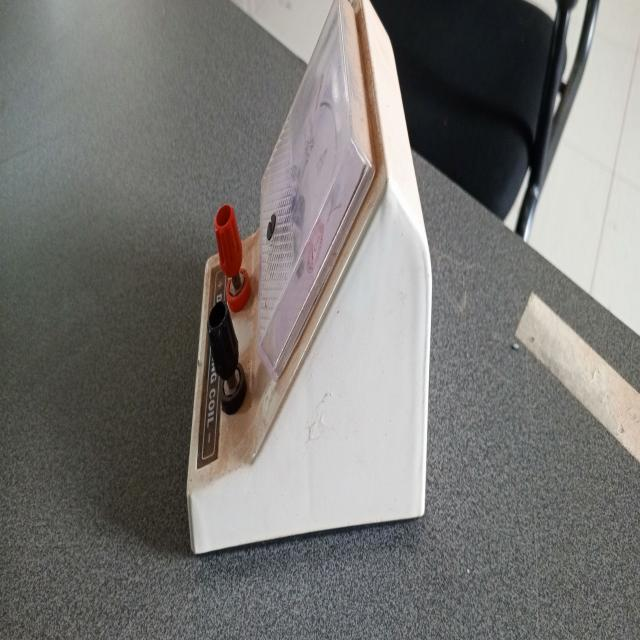Ammeter Analog: (179, 0, 441, 563)
